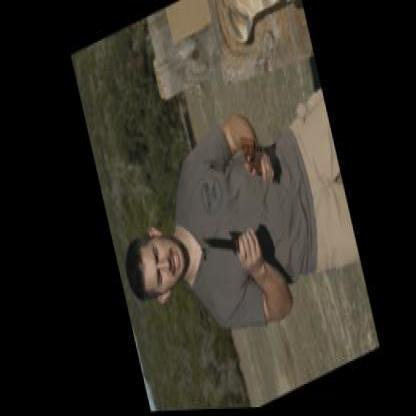knife: (191, 209, 258, 291)
